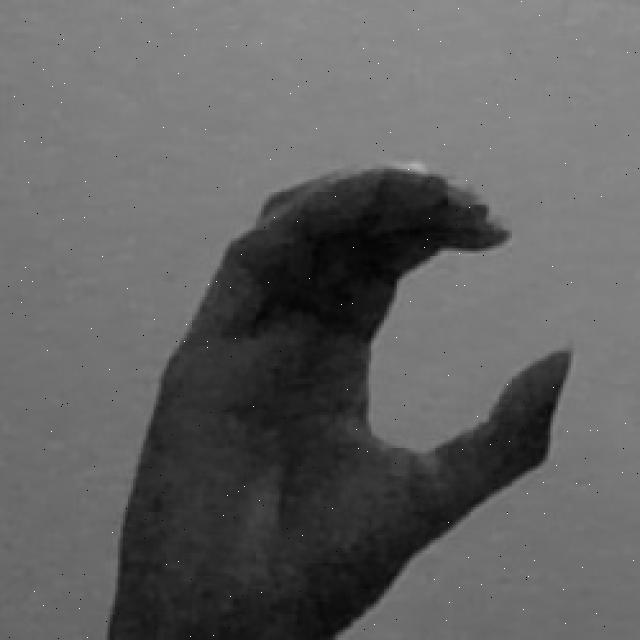C: (102, 164, 578, 640)
